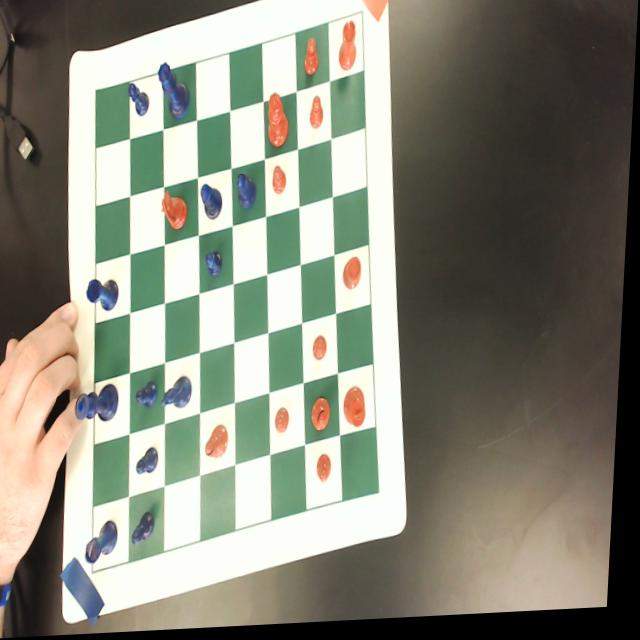B: (201, 184, 226, 225), (237, 174, 260, 215)
K: (79, 384, 124, 425)
N: (166, 378, 197, 412)
P: (136, 512, 164, 550), (128, 84, 151, 119), (139, 381, 163, 412), (141, 448, 165, 478), (207, 252, 226, 281)
Q: (156, 62, 193, 121)
R: (91, 521, 125, 567), (89, 279, 122, 312)
b: (210, 426, 233, 462), (316, 400, 336, 435)
k: (347, 389, 372, 432)
n: (162, 191, 191, 234)
p: (304, 40, 321, 81), (321, 456, 338, 487), (311, 98, 326, 133), (315, 338, 332, 368), (274, 167, 289, 198), (280, 410, 295, 437)
q: (268, 94, 292, 153)
r: (338, 24, 358, 75), (345, 260, 365, 294)
